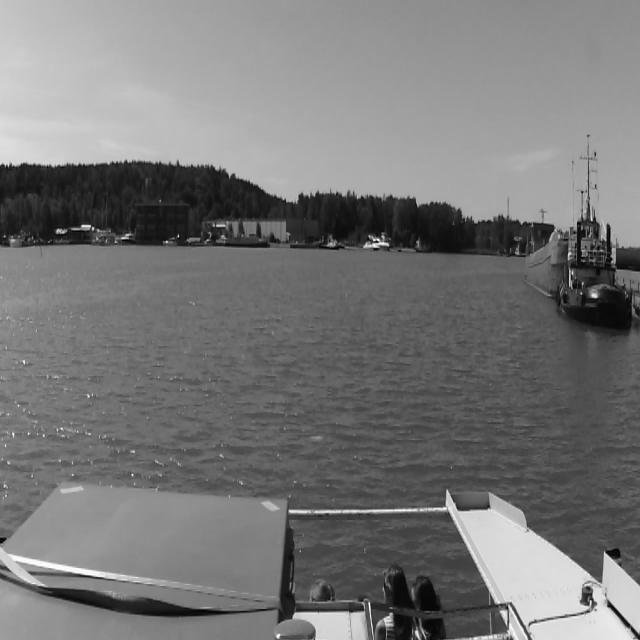ship: (558, 132, 634, 330), (363, 233, 390, 250), (162, 233, 180, 245), (320, 239, 340, 249), (122, 233, 136, 243)
